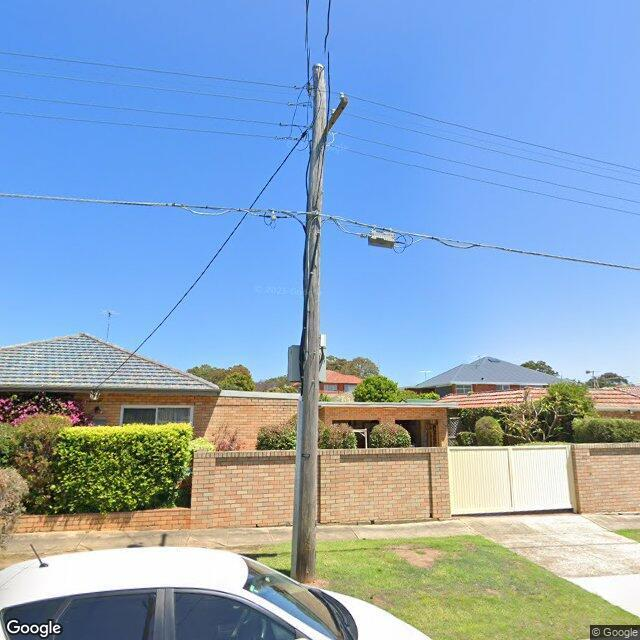crossarm: (317, 96, 351, 154)
timber-pole: (292, 62, 328, 580)
